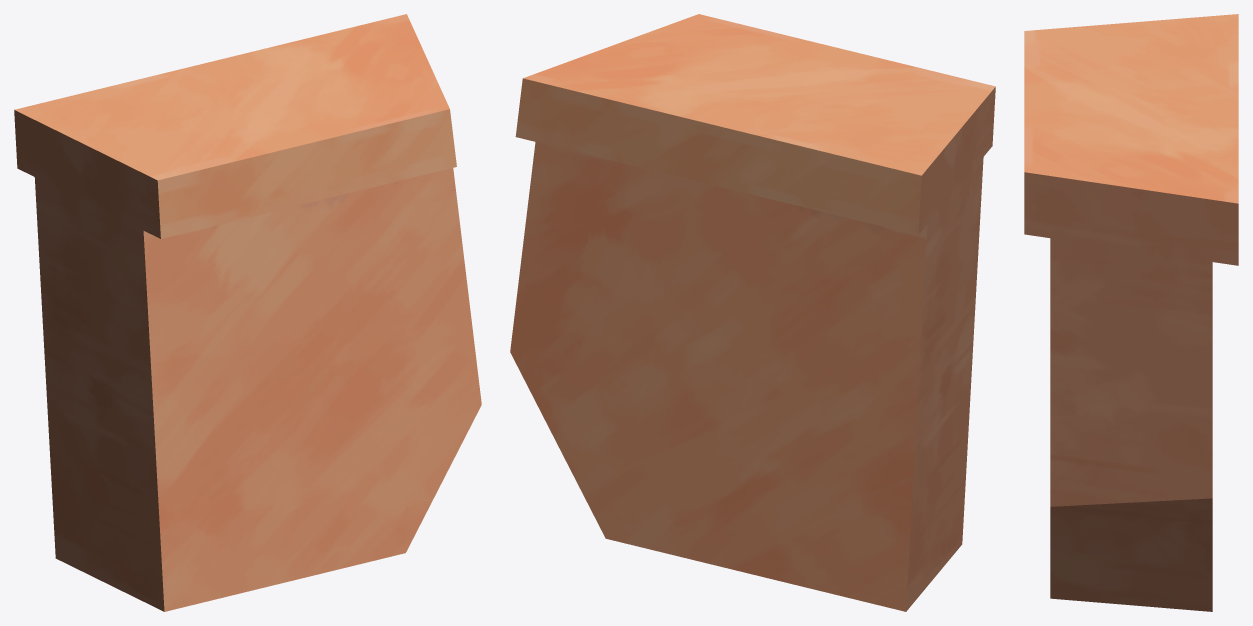
File: parapet_plain_s00.fbx
3 renders of one model, left to right at view 1: azimuth 30°, elevation 25°; view 2: azimuth 150°, elevation 25°; view 3: azimuth 270°, elevation 25°, orthographic. The views are drawn at different scales.
Parts seen in each view (by area): view 1: parapet_plain_s00; view 2: parapet_plain_s00; view 3: parapet_plain_s00.
Part boxes in pixels (<box>): parapet_plain_s00: <box>14,14,481,611</box>; parapet_plain_s00: <box>510,14,995,611</box>; parapet_plain_s00: <box>1024,14,1238,611</box>.
Size of the model in its own units: 2.94 by 3 by 1.32.
